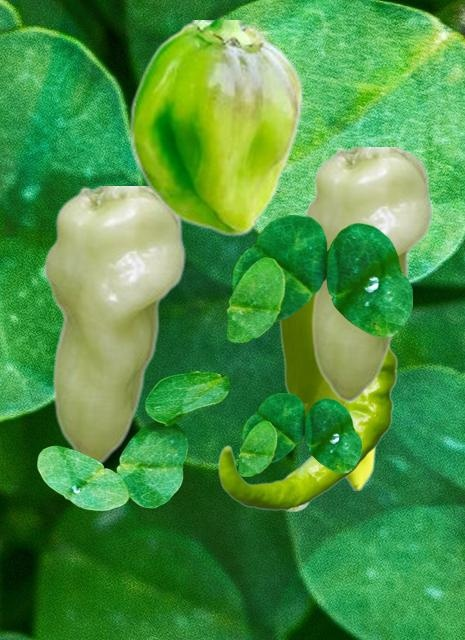green_chili: (40, 186, 184, 463), (129, 20, 303, 236), (301, 147, 431, 401), (218, 347, 397, 511), (277, 297, 375, 489)
